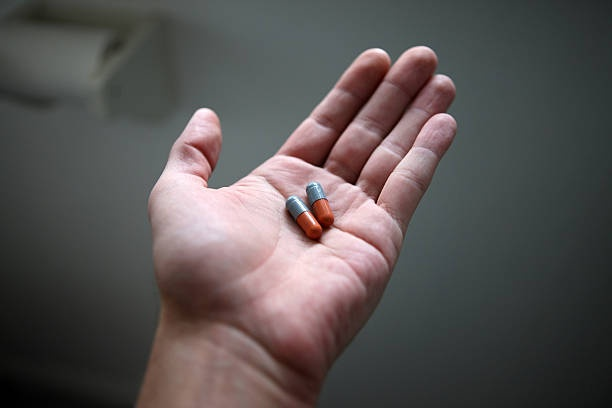pills: (279, 196, 323, 238), (310, 180, 332, 228)
